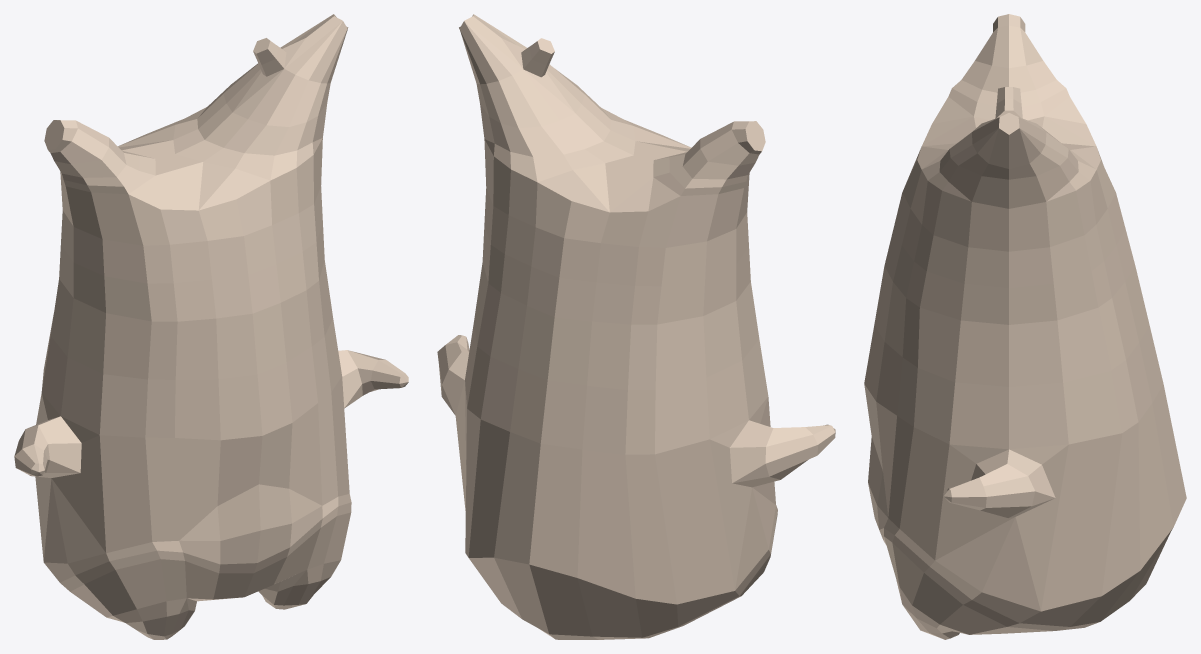
Rendered from frame_0005.obj.
The picture shows the model from 3 angles, left to right: view 1: azimuth 30°, elevation 25°; view 2: azimuth 150°, elevation 25°; view 3: azimuth 270°, elevation 25°; orthographic projection. The views are drawn at different scales.
Visible parts, largest first — view 1: korok; view 2: korok; view 3: korok.
Part boxes in pixels (bbox=[...]): korok: bbox=[14, 14, 408, 639]; korok: bbox=[437, 14, 835, 639]; korok: bbox=[864, 14, 1186, 639].
Size of the model in its own units: 1.44 by 2 by 1.03.
